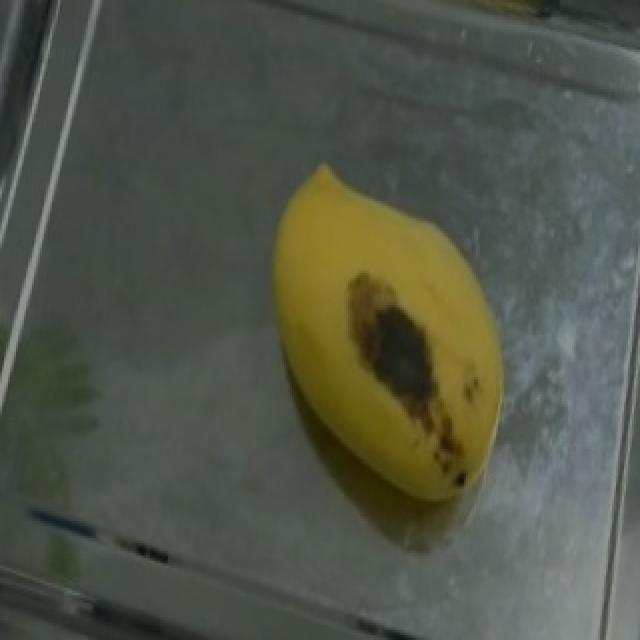fruit: (220, 139, 532, 499)
